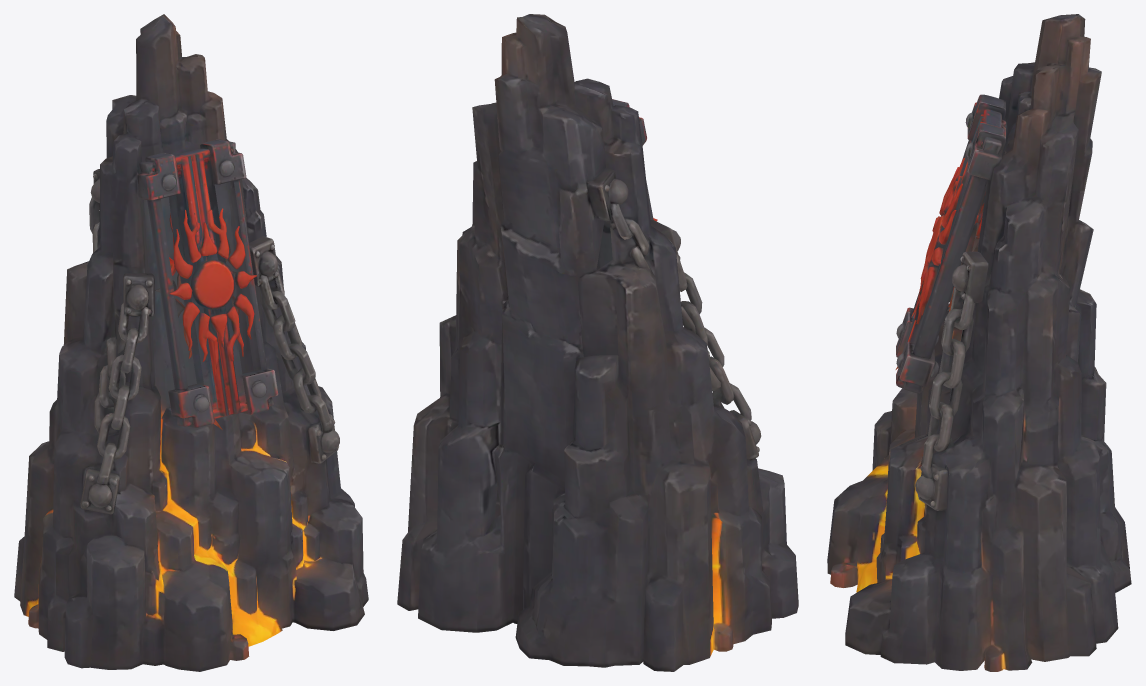
The model's file is SM_Tripo_InfernoRockRib.glb.
3 views of the same model, side by side, from view 1: azimuth 30°, elevation 25°; view 2: azimuth 150°, elevation 25°; view 3: azimuth 270°, elevation 25° (orthographic). The views are drawn at different scales.
Parts seen in each view (by area): view 1: SM_Tripo_InfernoRockRib_LOD0; view 2: SM_Tripo_InfernoRockRib_LOD0; view 3: SM_Tripo_InfernoRockRib_LOD0.
Part boxes in pixels (<box>): SM_Tripo_InfernoRockRib_LOD0: <box>14,14,368,671</box>; SM_Tripo_InfernoRockRib_LOD0: <box>397,14,798,671</box>; SM_Tripo_InfernoRockRib_LOD0: <box>827,14,1131,671</box>.
Size of the model in its own units: 9.37 by 16 by 7.54.
1 material, 1 textured.
